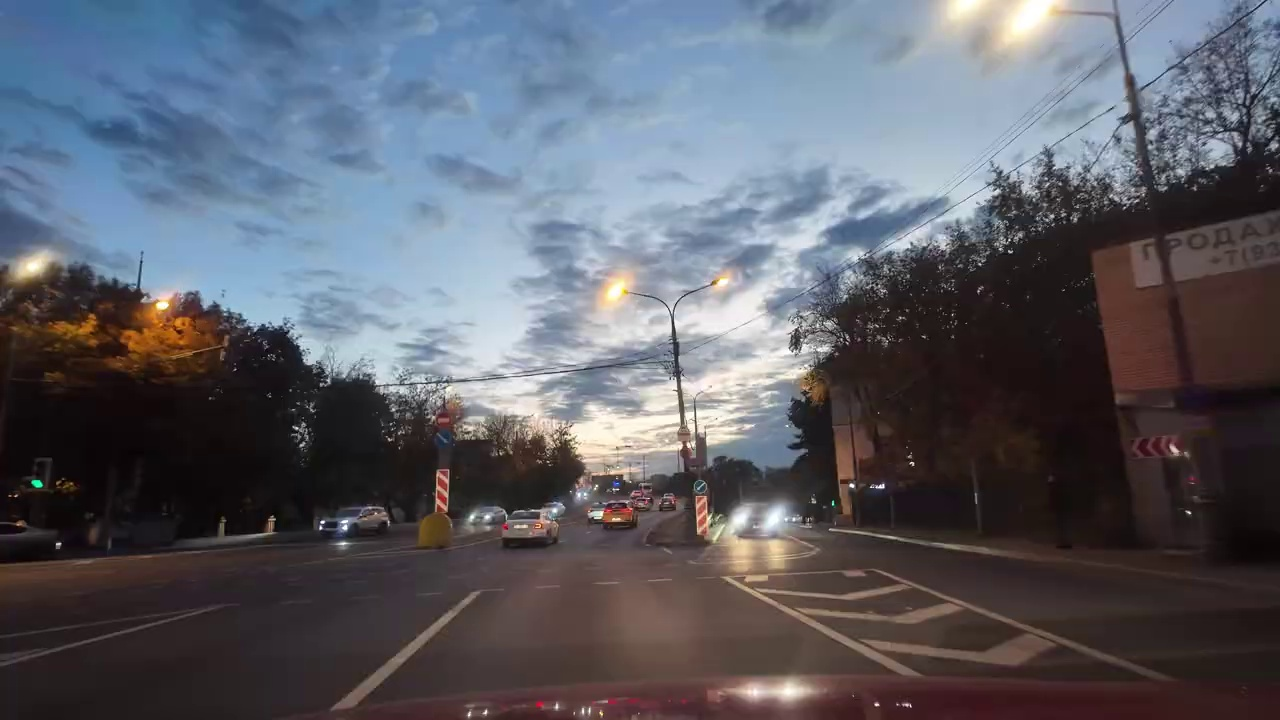acesa: (992, 5, 1060, 53), (8, 249, 50, 287), (602, 272, 635, 311), (707, 268, 739, 299)
